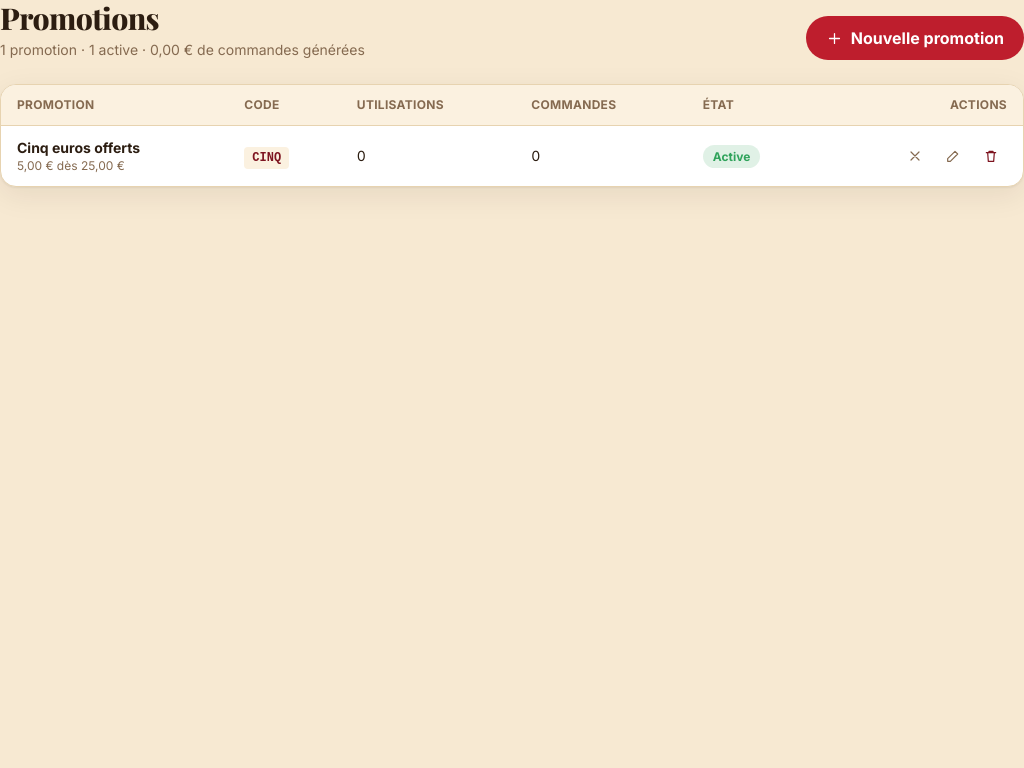
Promotions — un champ de montant vidé pour être retapé › refuse une saisie illisible plutôt que de la convertir
The width and height of the screenshot is (1024, 768).
Click the button named "Modifier": (953,156) [937, 140, 969, 172]
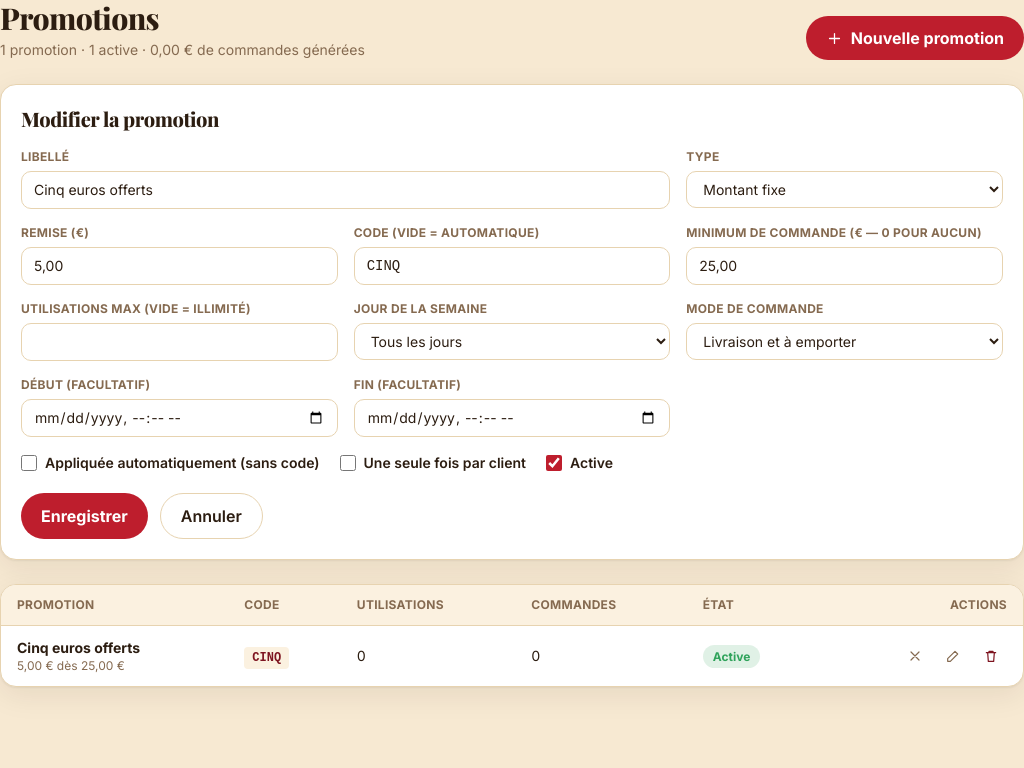
In the field with placeholder "25,00": (845,266) [686, 247, 1003, 285], type "vingt-cinq euros"
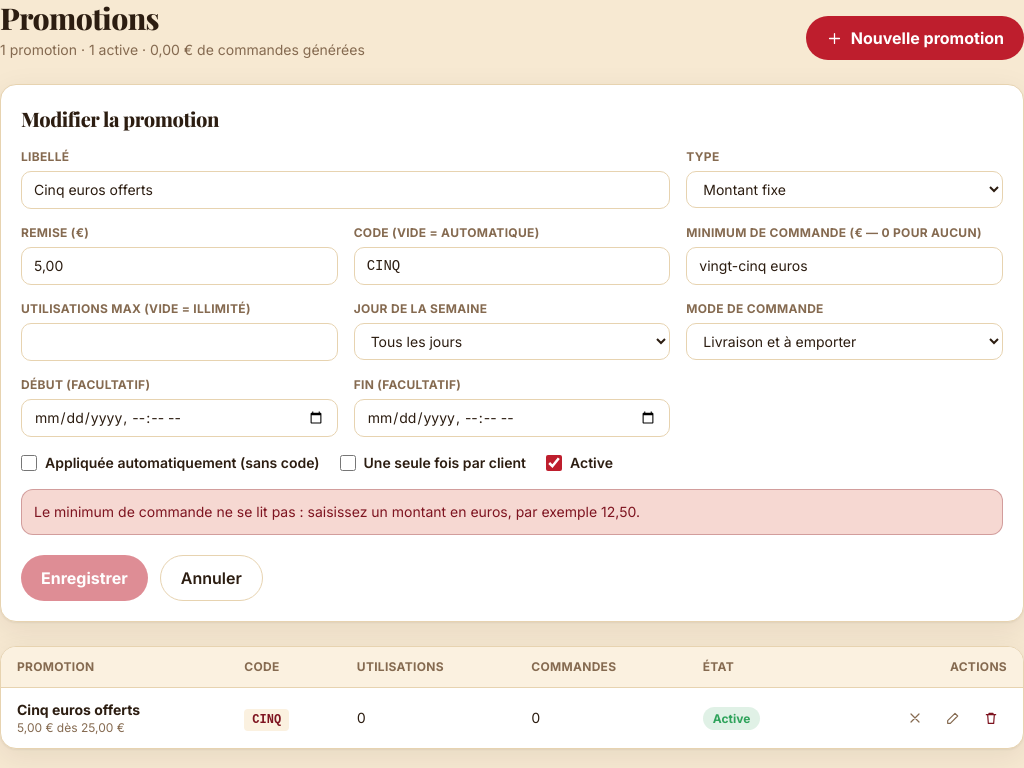
Expected: the text "Le minimum de commande ne se lit pas : saisissez un montant en euros, par exemple 12,50." is shown, [34, 503, 640, 520]
Expected: the button "Enregistrer" is disabled, [21, 555, 148, 601]
